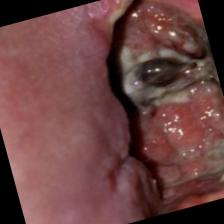pressure-wound: (59, 0, 224, 224)
